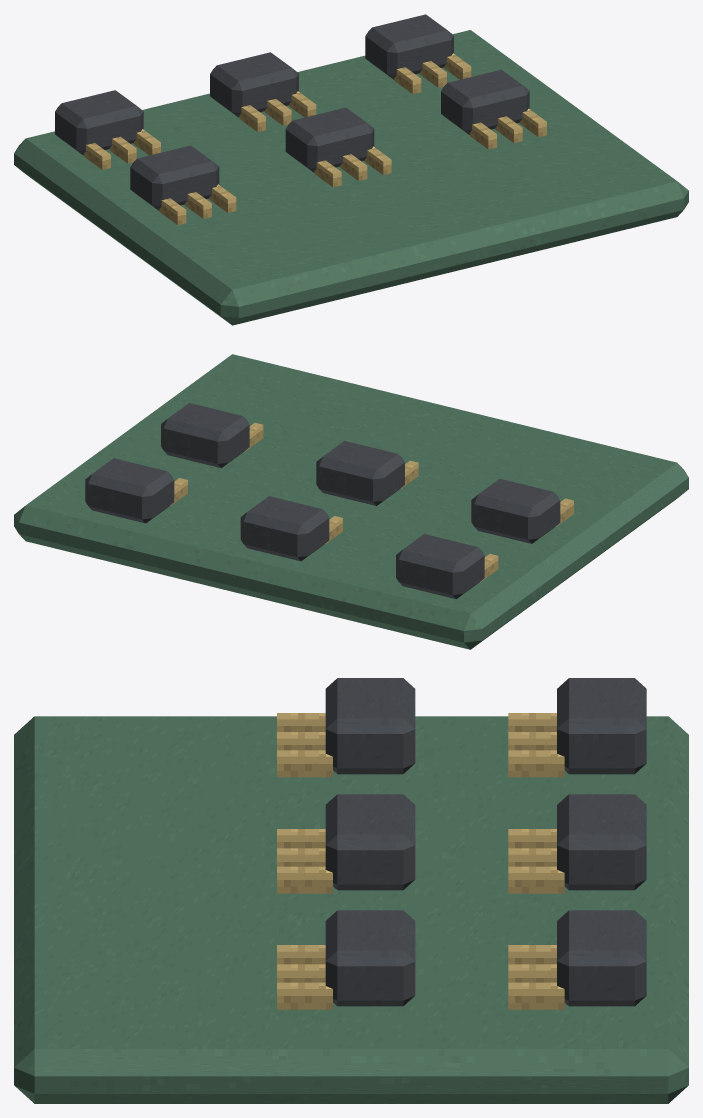
File: circuit.glb
3 views of the same model, one above another, from view 1: azimuth 30°, elevation 25°; view 2: azimuth 150°, elevation 25°; view 3: azimuth 270°, elevation 25° (orthographic). The views are drawn at different scales.
Visible parts, largest first — view 1: block_circuit substrate, block_integrated component (×6), block_circuit pin (×16); view 2: block_circuit substrate, block_integrated component (×6); view 3: block_circuit substrate, block_integrated component (×6), block_circuit pin (×18).
Part boxes in pixels (bbox=[...]): block_circuit substrate: bbox=[14, 30, 688, 325]; block_integrated component (×6): bbox=[55, 14, 529, 210]; block_circuit pin (×16): bbox=[84, 61, 546, 225]; block_circuit substrate: bbox=[14, 354, 688, 649]; block_integrated component (×6): bbox=[85, 403, 560, 599]; block_circuit substrate: bbox=[14, 716, 688, 1103]; block_integrated component (×6): bbox=[325, 678, 646, 1006]; block_circuit pin (×18): bbox=[277, 713, 564, 1009].
Size of the model in its own units: 0.0464 by 0.0069 by 0.0378.
1 material, 1 textured.
